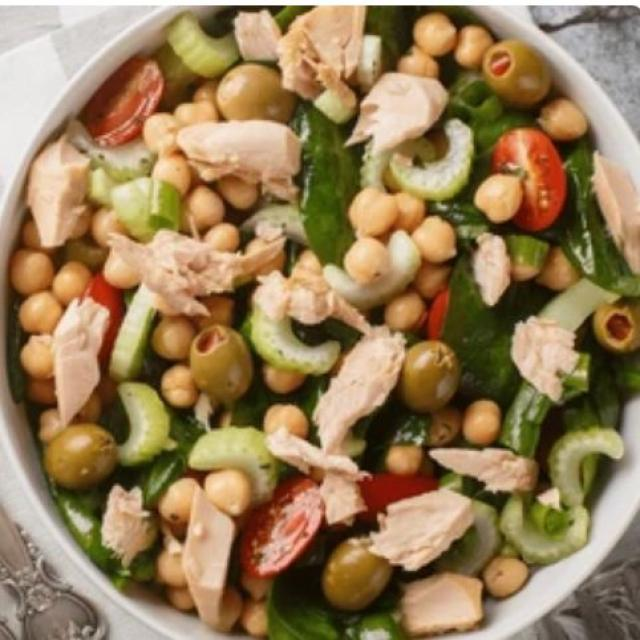SUNDAL: (15, 1, 635, 637)
